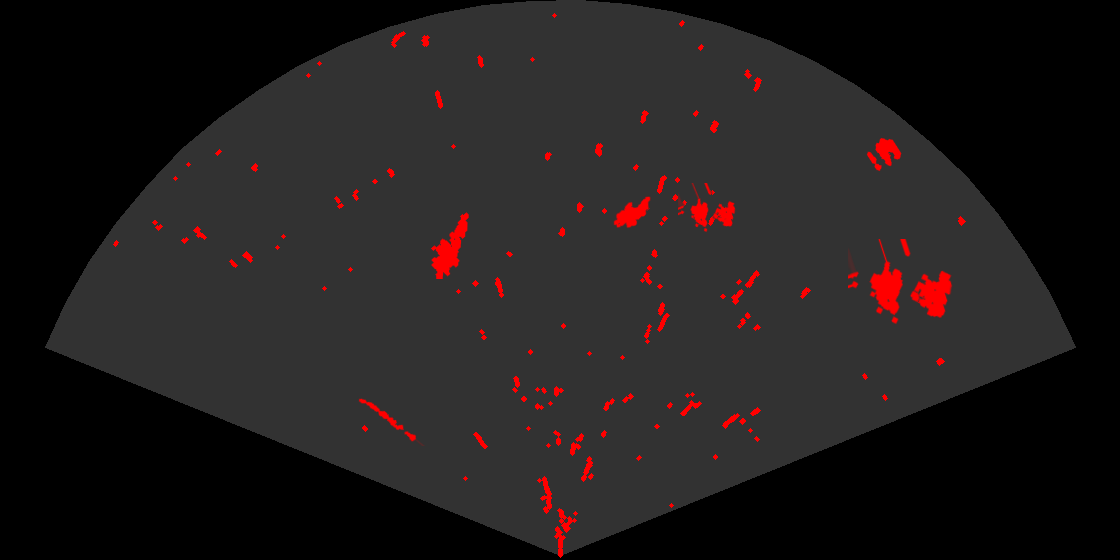AUV: (612, 195, 652, 230)
ball: (865, 136, 903, 173)
cage: (848, 239, 954, 326), (678, 183, 737, 234)
chain: (357, 397, 425, 446)
frogman: (429, 211, 470, 279)
